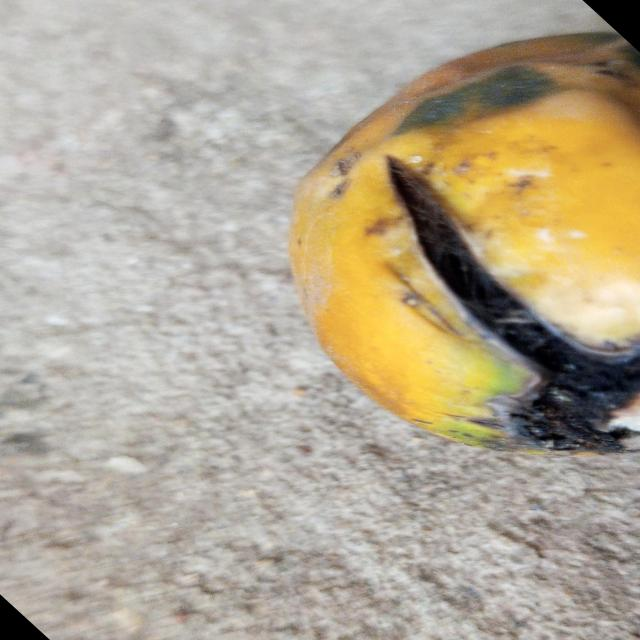damaged: (290, 32, 640, 454)
